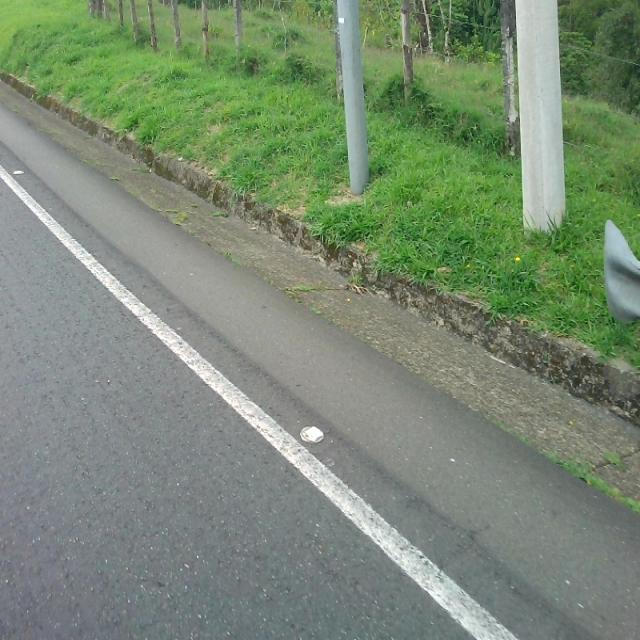DITCH: (1, 73, 639, 638), (6, 68, 638, 637)
